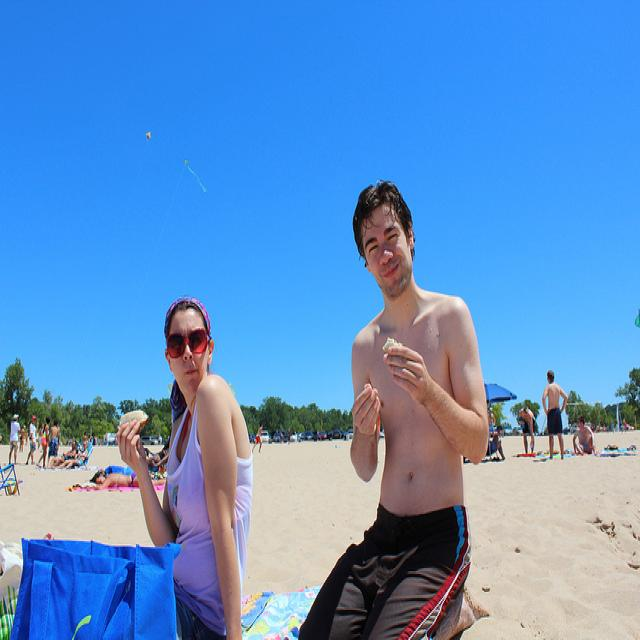Vehicle: (300, 431, 313, 442), (260, 430, 270, 443), (336, 430, 346, 440), (248, 433, 256, 444), (320, 430, 328, 439), (273, 432, 280, 442), (348, 428, 354, 438), (332, 432, 340, 439)
